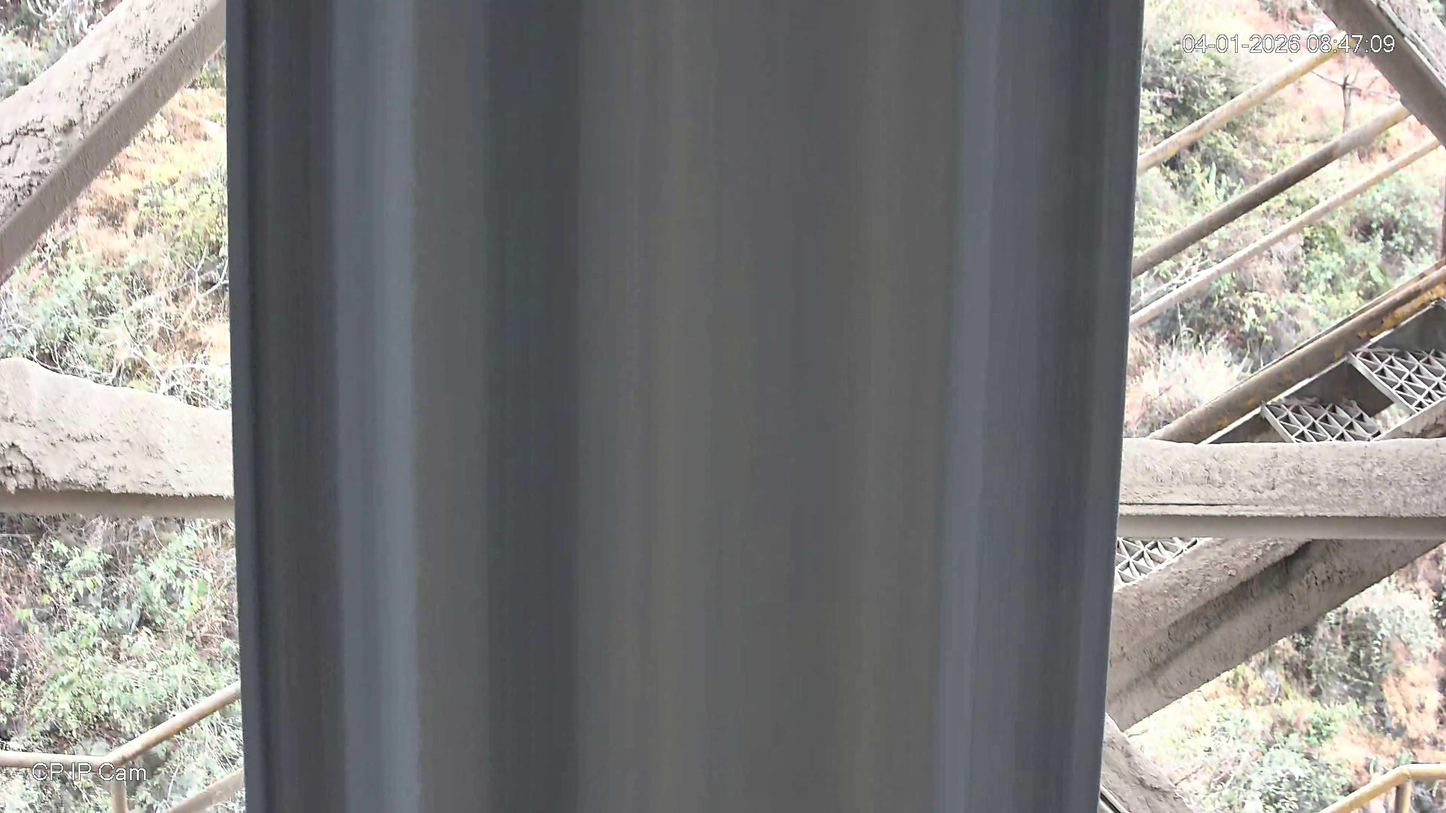belt_roi: (225, 0, 1146, 813)
